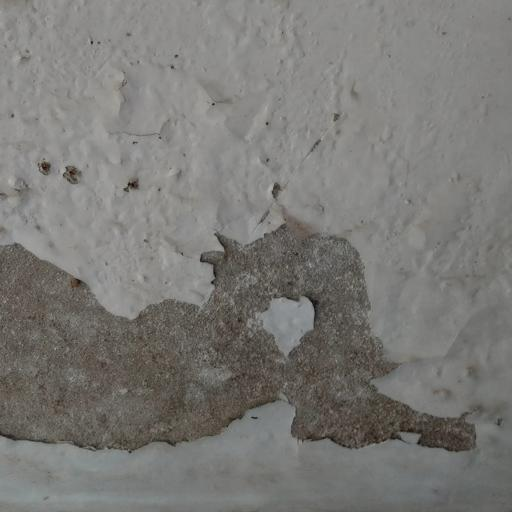peeling: (0, 142, 497, 464)
